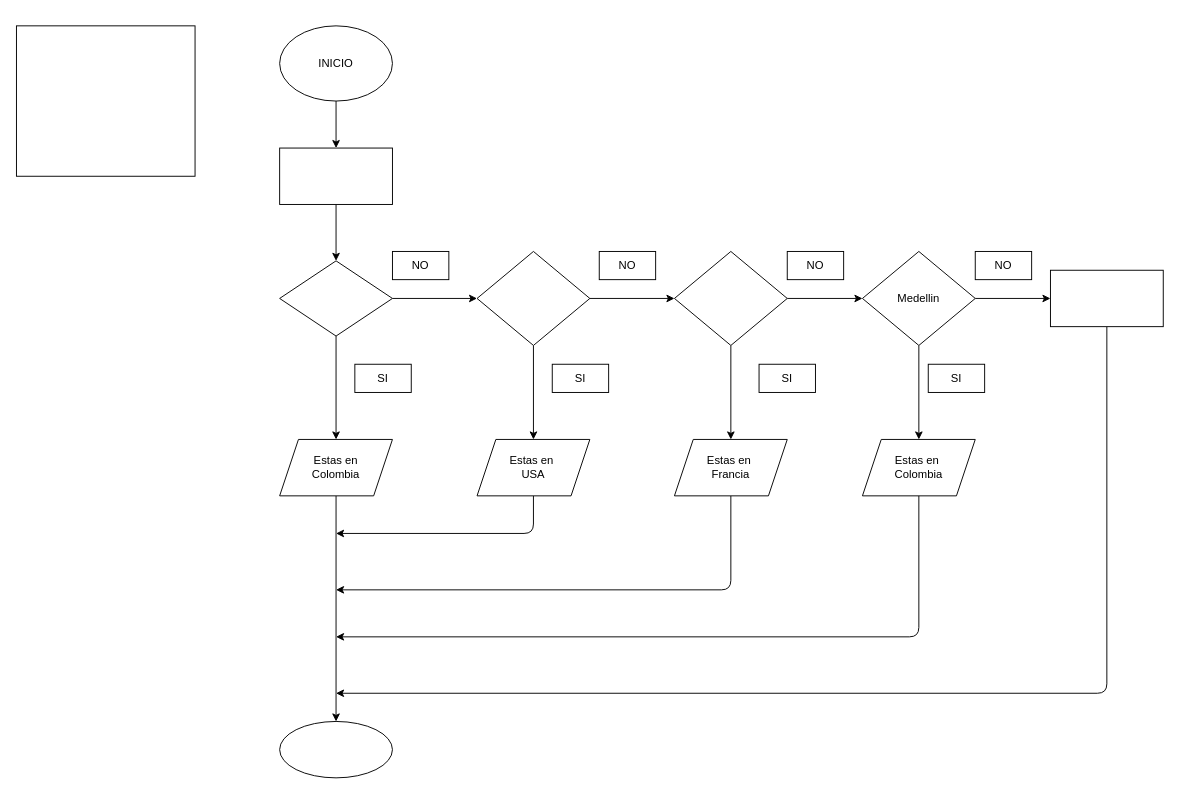
Image size: 1180x794. Some labels were removed from this diagram. Each missing label, with the box of its shape:
Bogota: (279, 260, 392, 336)
Ciudad no encontrada: (1050, 269, 1163, 327)
Ciudades Bogota New York Paris Medellin: (16, 25, 195, 176)
En que ciudad estas?: (279, 147, 392, 204)
FIN: (279, 721, 392, 778)
New York: (476, 251, 590, 345)
Paris: (674, 251, 787, 345)
